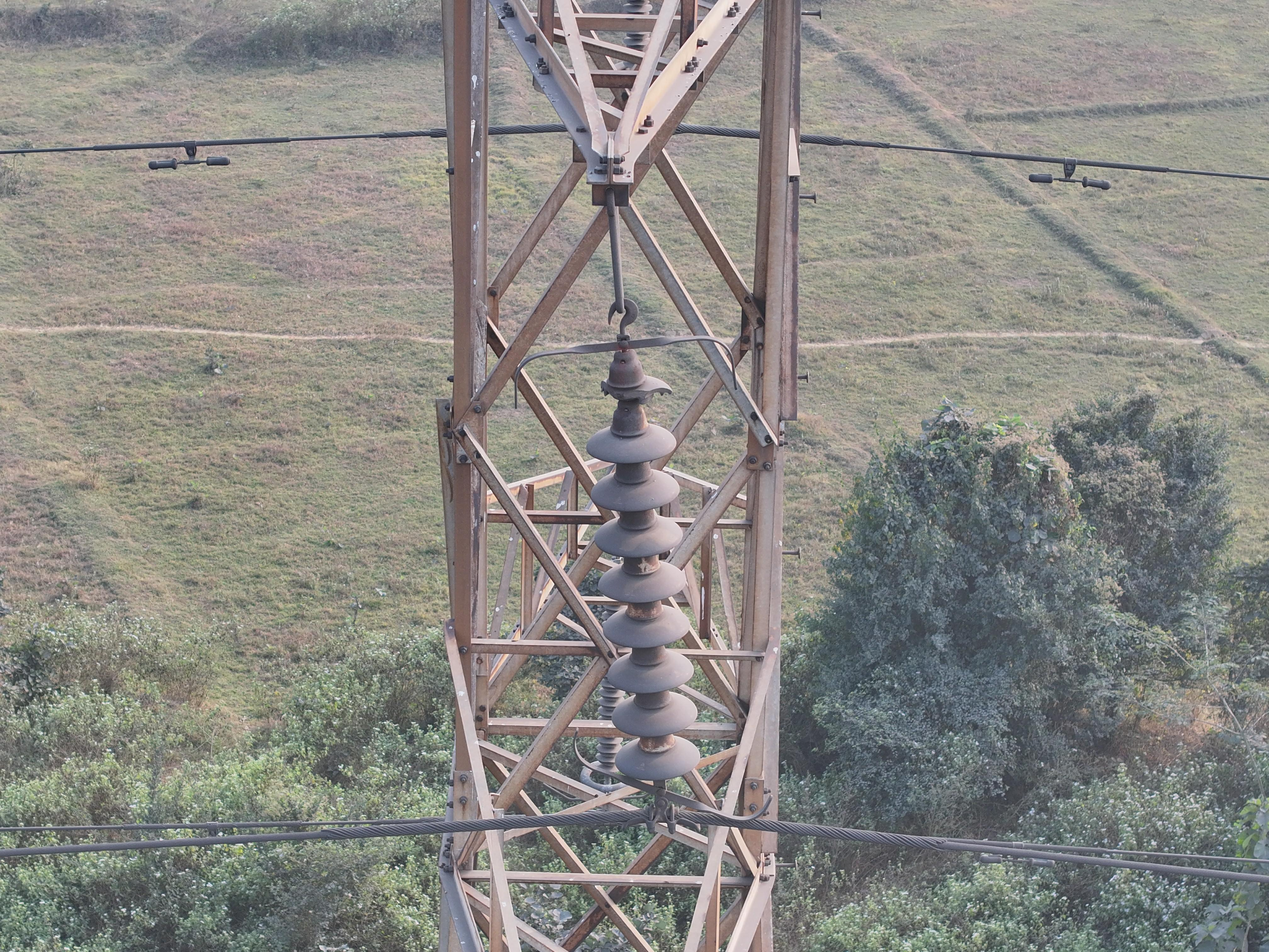broken_insulator: (592, 370, 676, 407)
